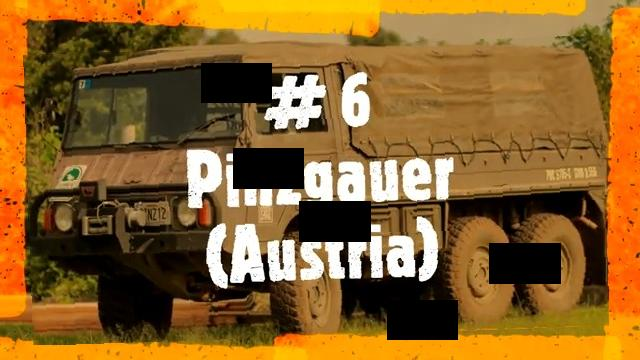MIL_HMMWV: (26, 40, 607, 341)
